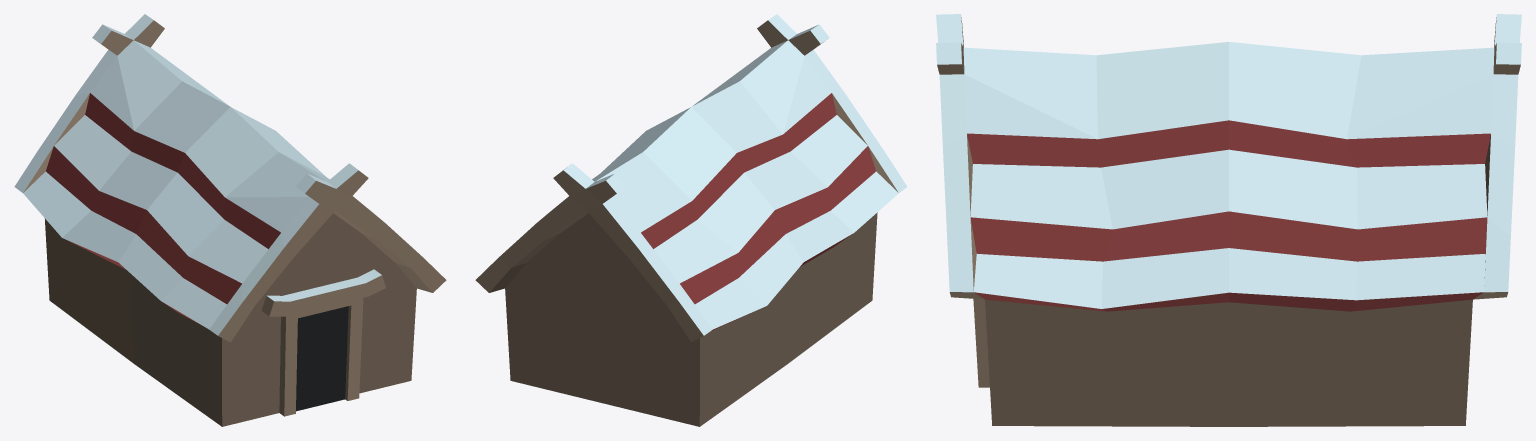
Rendered from SM_Bld_Viking_Hut_01_Snow.fbx.
3 views of the same model, side by side, from view 1: azimuth 30°, elevation 25°; view 2: azimuth 150°, elevation 25°; view 3: azimuth 270°, elevation 25° (orthographic). The views are drawn at different scales.
Parts seen in each view (by area): view 1: SM_Bld_Viking_Hut_01_Snow; view 2: SM_Bld_Viking_Hut_01_Snow; view 3: SM_Bld_Viking_Hut_01_Snow.
Boxes of the visible parts, x1,y1,x2,y2 form: SM_Bld_Viking_Hut_01_Snow: (14,14,446,426); SM_Bld_Viking_Hut_01_Snow: (475,14,907,426); SM_Bld_Viking_Hut_01_Snow: (936,14,1521,426).
Bounding box in the file's own units: 85.26 × 81.39 × 129.
Materials: 1 (1 with a texture image).
